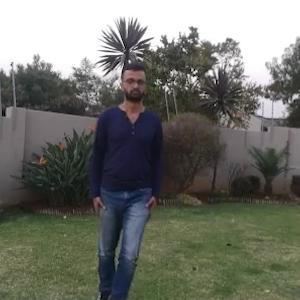follow: (89, 42, 160, 299)
